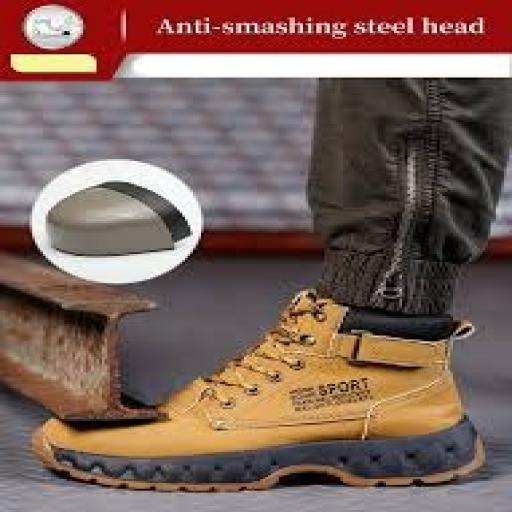safety_boots: (24, 312, 494, 508)
